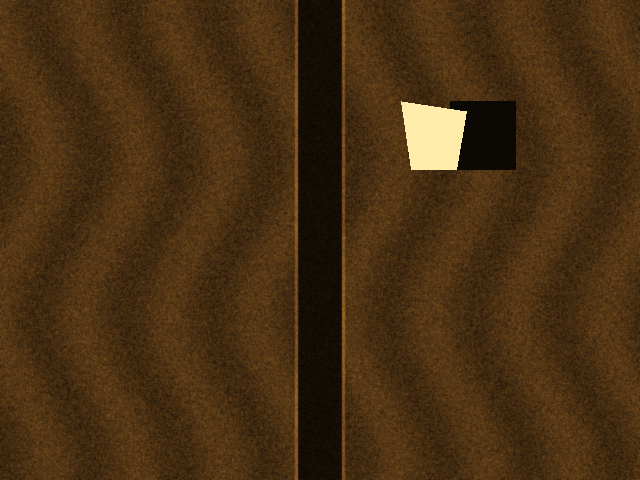Other Man-made Debris: (401, 101, 466, 169)
